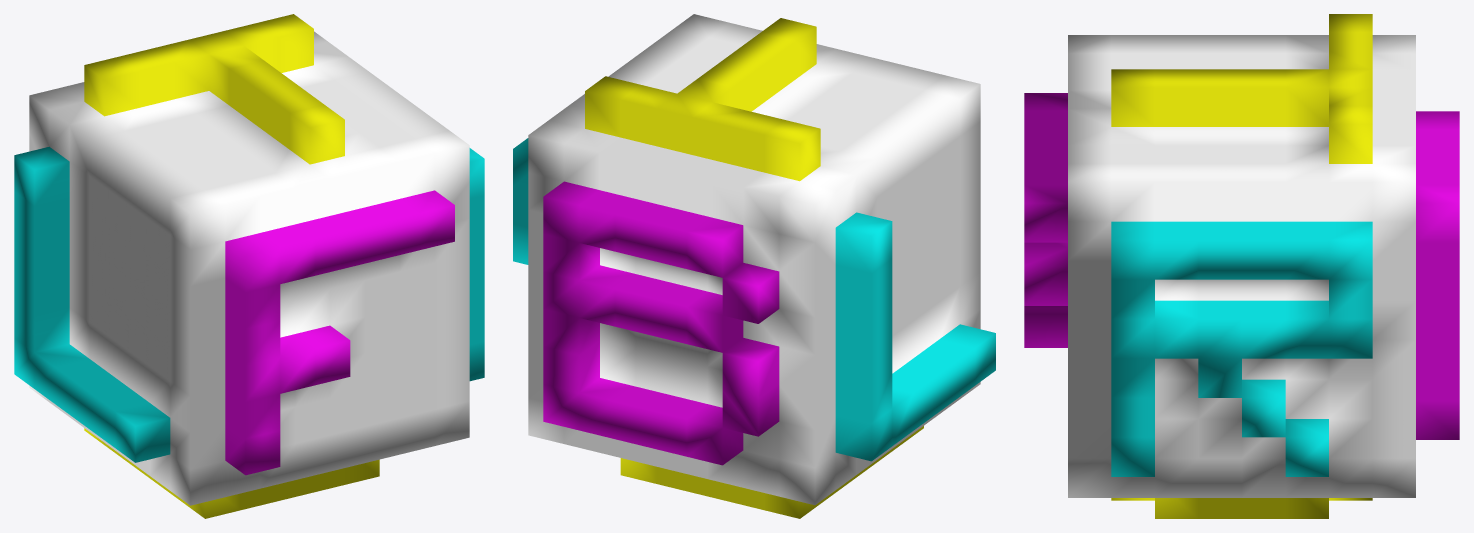
File: testcube.dae
3 views of the same model, side by side, from view 1: azimuth 30°, elevation 25°; view 2: azimuth 150°, elevation 25°; view 3: azimuth 270°, elevation 25° (orthographic). The views are drawn at different scales.
Visible parts, largest first — view 1: Cube; view 2: Cube; view 3: Cube.
Part boxes in pixels (x1,y1,x2,y2): Cube: (14, 14, 484, 518); Cube: (513, 14, 995, 518); Cube: (1024, 14, 1459, 518).
Bounding box in the file's own units: 2.5 × 2.5 × 2.5.
